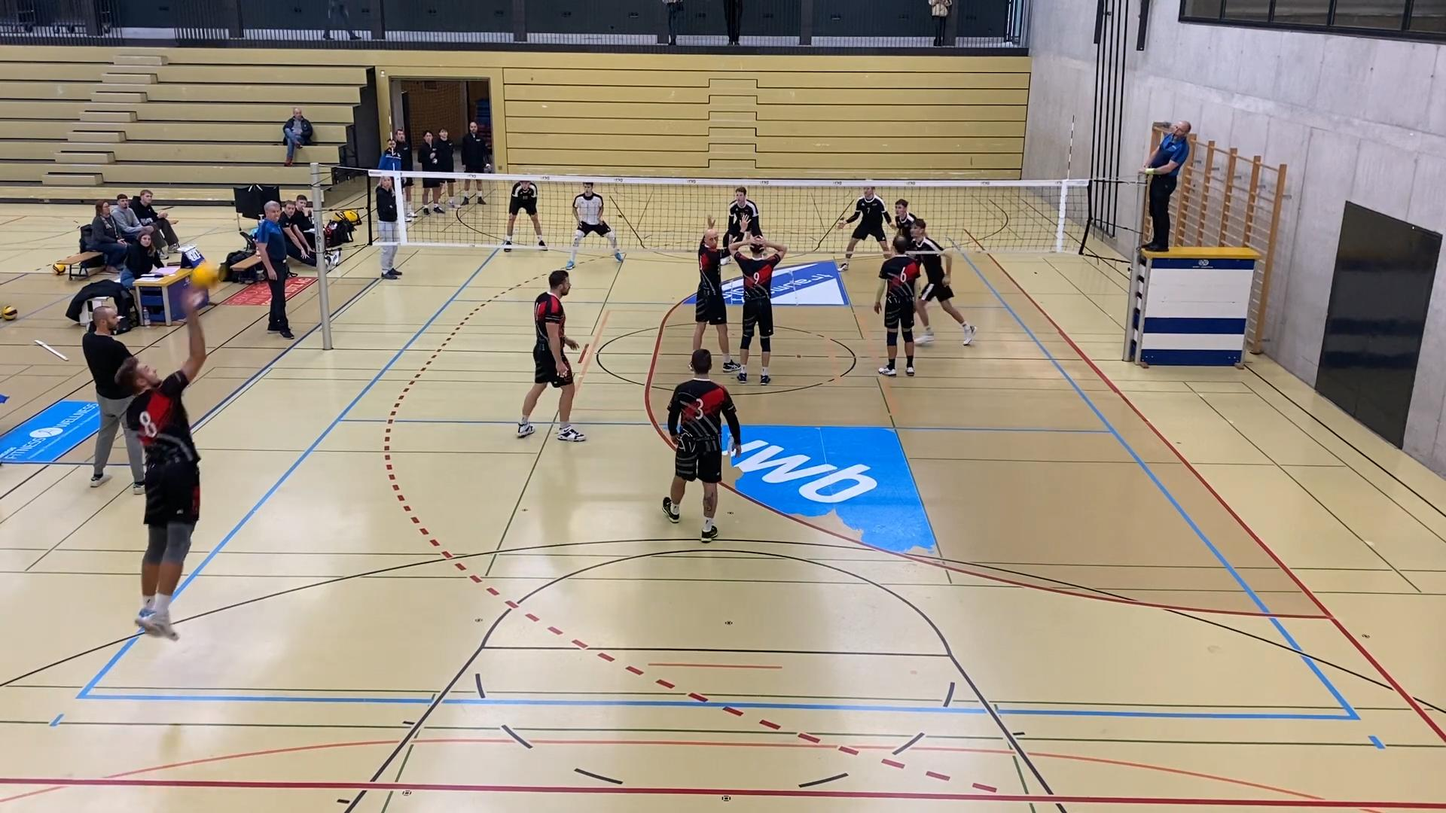battuta: (107, 280, 210, 649)
